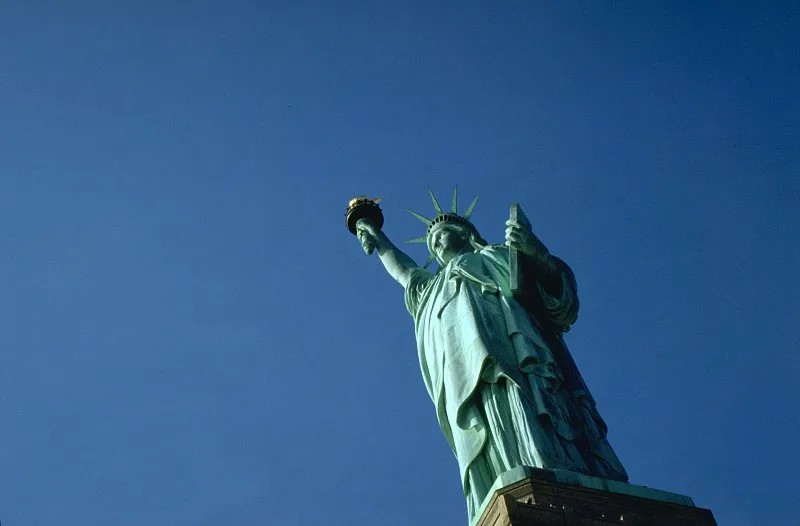SL: (343, 183, 719, 526)
